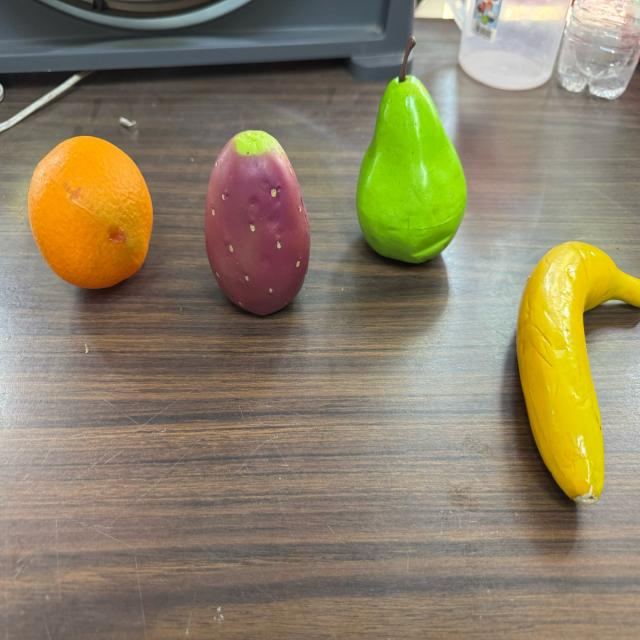banana: (514, 242, 640, 504)
orange: (26, 135, 154, 290)
pear: (356, 36, 465, 263)
tuna: (204, 128, 311, 316)
